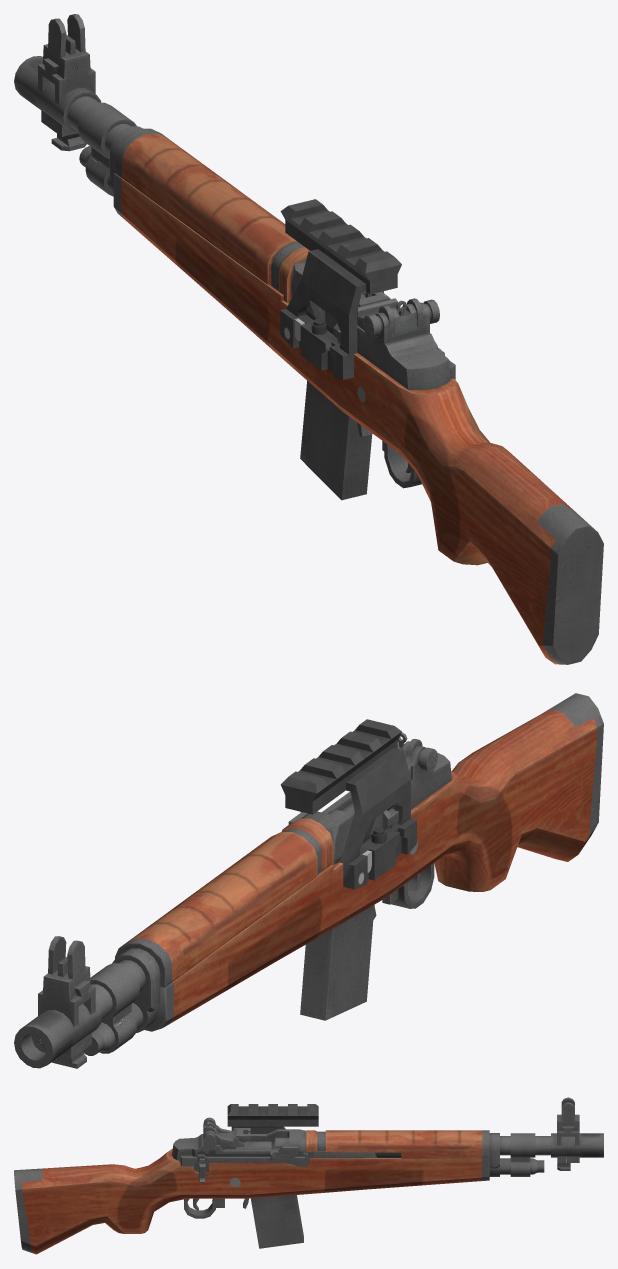
Rendered from Agent_Handheld_Gun_M14.fbx.
3 views of the same model, one above another, from view 1: azimuth 30°, elevation 25°; view 2: azimuth 150°, elevation 25°; view 3: azimuth 270°, elevation 25° (orthographic). The views are drawn at different scales.
Visible parts, largest first — view 1: WPN_M14, ShowIf_Scope, HideIf_Muzzle; view 2: WPN_M14, ShowIf_Scope, HideIf_Muzzle; view 3: WPN_M14, ShowIf_Scope, HideIf_Muzzle.
Part boxes in pixels (x1,y1,x2,y2): WPN_M14: [67, 96, 603, 664]; ShowIf_Scope: [280, 199, 401, 379]; HideIf_Muzzle: [14, 14, 101, 151]; WPN_M14: [83, 693, 603, 1055]; ShowIf_Scope: [280, 719, 416, 889]; HideIf_Muzzle: [14, 936, 102, 1068]; WPN_M14: [14, 1117, 550, 1254]; ShowIf_Scope: [227, 1104, 318, 1133]; HideIf_Muzzle: [551, 1097, 603, 1170].
Size of the model in its own units: 0.1183 by 0.4085 by 1.43.
